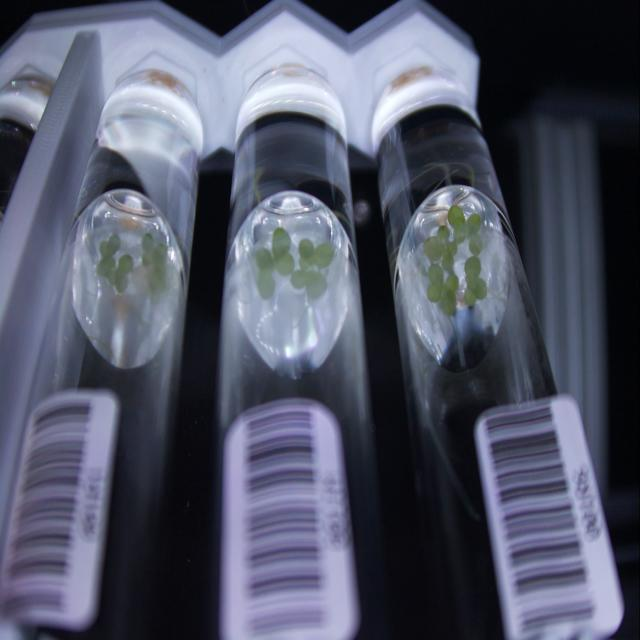Lemna-Gibba: (141, 233, 168, 297), (448, 205, 482, 255), (464, 255, 488, 307), (299, 238, 334, 270), (290, 270, 328, 299), (272, 227, 294, 275), (255, 247, 275, 299), (96, 235, 121, 275), (424, 225, 449, 262), (109, 254, 132, 292), (440, 274, 459, 315), (428, 264, 444, 302), (441, 240, 458, 272)
